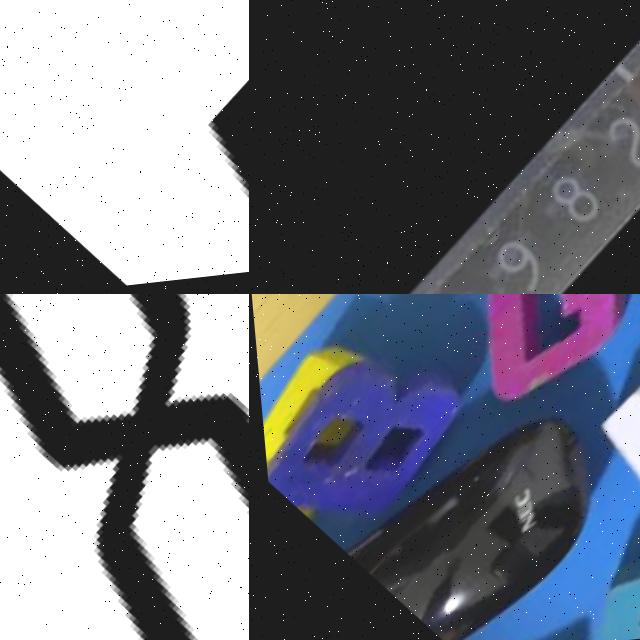2: (587, 109, 640, 187)
3: (0, 0, 249, 294)
8: (0, 294, 249, 640), (531, 171, 601, 243)
9: (476, 232, 549, 294)
B: (250, 321, 482, 570)
G: (420, 294, 640, 441)
H: (545, 294, 640, 584)
M: (506, 462, 640, 640)
